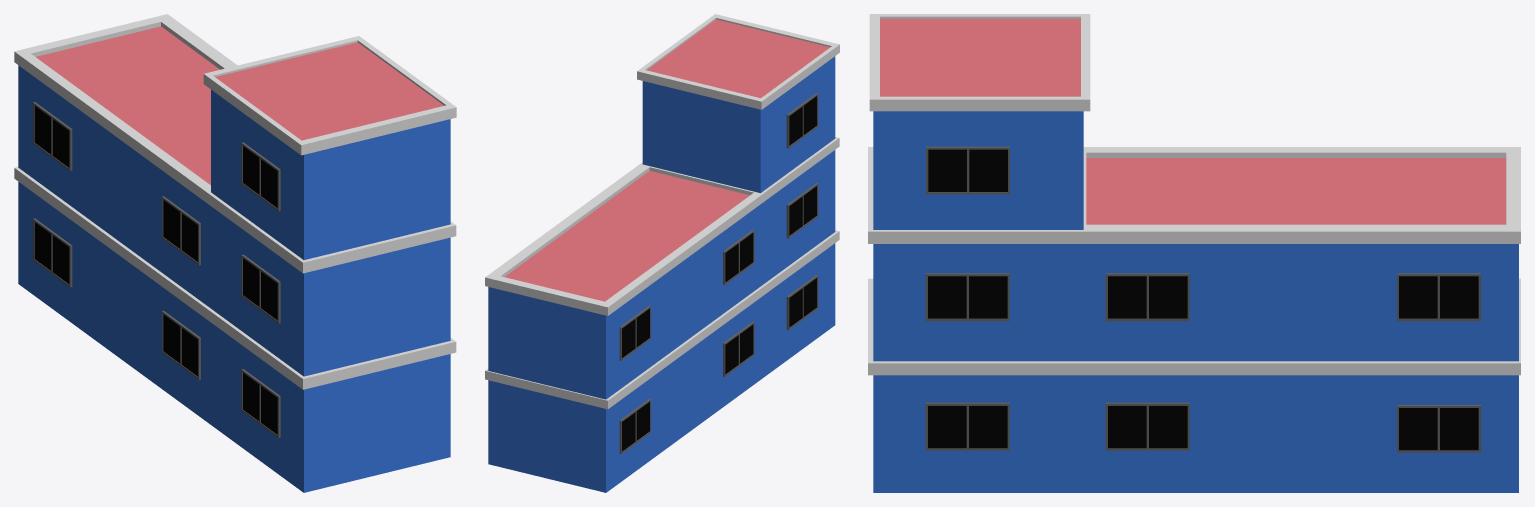
The model's file is AstralBuilding2_R.fbx.
3 views of the same model, side by side, from view 1: azimuth 30°, elevation 25°; view 2: azimuth 150°, elevation 25°; view 3: azimuth 270°, elevation 25° (orthographic). The views are drawn at different scales.
Visible parts, largest first — view 1: Cube.001, Cube.006, Cube.004, Cube.005, Cube.002, Cube.007, Cube.003, BottomBase.009, BottomBase.011, BottomBase.015, BottomBase.006, BottomBase.008 (+9 smaller); view 2: Cube.001, Cube.006, Cube.004, Cube.002, Cube.005, Cube.007, Cube.003, BottomBase.009, BottomBase.011, BottomBase.014, BottomBase.015, BottomBase.006 (+7 smaller); view 3: Cube.001, Cube.006, Cube.004, Cube.002, Cube.005, Cube.007, Cube.003, BottomBase.002, BottomBase.003, BottomBase.004, BottomBase.005, BottomBase.010 (+9 smaller).
Part boxes in pixels (bbox=[...]): Cube.001: bbox=[18, 65, 450, 376]; Cube.006: bbox=[18, 182, 450, 492]; Cube.004: bbox=[36, 26, 219, 184]; Cube.005: bbox=[215, 42, 443, 140]; Cube.002: bbox=[14, 14, 456, 273]; Cube.007: bbox=[14, 167, 456, 389]; Cube.003: bbox=[203, 36, 456, 155]; BottomBase.009: bbox=[34, 106, 69, 167]; BottomBase.011: bbox=[34, 222, 69, 283]; BottomBase.015: bbox=[163, 314, 197, 376]; BottomBase.006: bbox=[243, 258, 277, 320]; BottomBase.008: bbox=[163, 200, 197, 261]; Cube.001: bbox=[488, 56, 835, 399]; Cube.006: bbox=[488, 243, 835, 492]; Cube.004: bbox=[504, 170, 749, 301]; Cube.002: bbox=[485, 137, 839, 315]; Cube.005: bbox=[647, 19, 829, 98]; Cube.007: bbox=[485, 230, 839, 409]; Cube.003: bbox=[637, 14, 839, 109]; BottomBase.009: bbox=[622, 308, 649, 357]; BottomBase.011: bbox=[622, 402, 649, 451]; BottomBase.014: bbox=[789, 278, 816, 327]; BottomBase.015: bbox=[725, 324, 753, 374]; BottomBase.006: bbox=[789, 186, 816, 235]; Cube.001: bbox=[873, 111, 1518, 361]; Cube.006: bbox=[873, 375, 1518, 492]; Cube.004: bbox=[1086, 158, 1506, 224]; Cube.002: bbox=[868, 147, 1520, 243]; Cube.005: bbox=[880, 19, 1080, 96]; Cube.007: bbox=[868, 278, 1520, 375]; Cube.003: bbox=[869, 14, 1090, 111]; BottomBase.002: bbox=[928, 276, 1007, 318]; BottomBase.003: bbox=[928, 149, 1007, 191]; BottomBase.004: bbox=[1108, 276, 1187, 318]; BottomBase.005: bbox=[1399, 276, 1478, 318]; BottomBase.010: bbox=[1399, 408, 1478, 450].
Bounding box in the file's own units: 1047 × 2252 × 3367.
